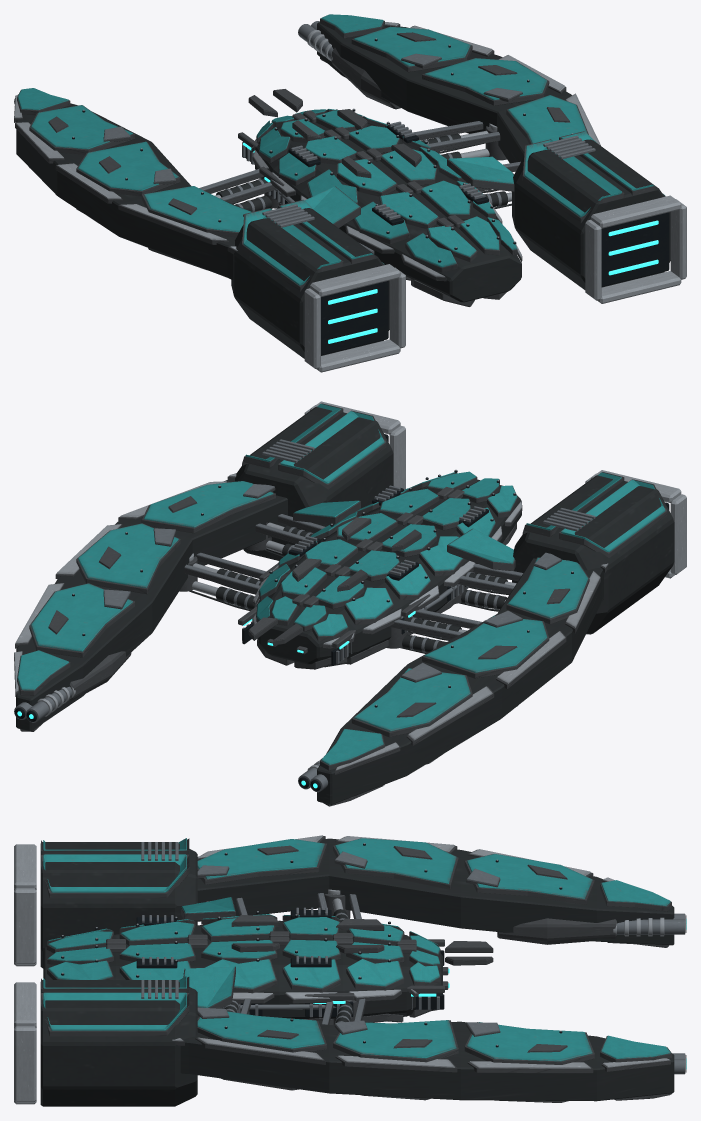
Rendered from raider.glb.
The picture shows the model from 3 angles, top to bottom: view 1: azimuth 30°, elevation 25°; view 2: azimuth 150°, elevation 25°; view 3: azimuth 270°, elevation 25°; orthographic projection.
Visible parts, largest first — view 1: Raider.001; view 2: Raider.001; view 3: Raider.001.
Part boxes in pixels (x1,y1,x2,y2): Raider.001: (14, 14, 686, 372); Raider.001: (14, 401, 686, 806); Raider.001: (14, 835, 686, 1106).
Size of the model in its own units: 6.51 by 1.41 by 8.21.
7 materials, 7 textured.
